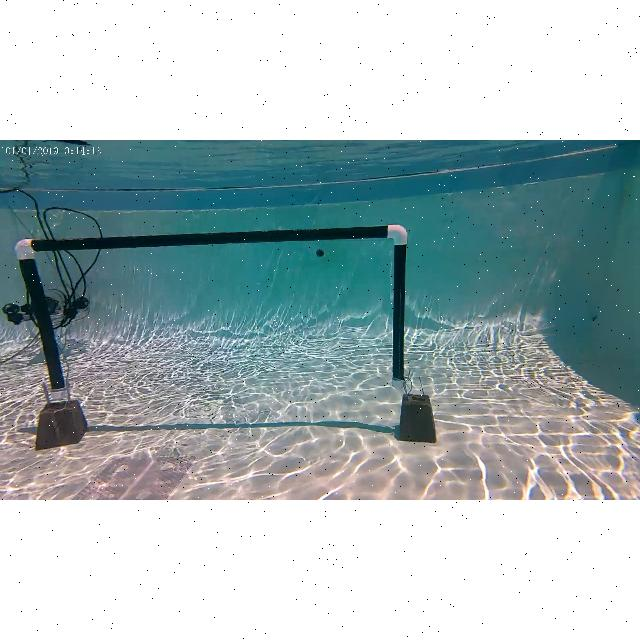prequal gate: (15, 224, 408, 400)
prequal gate leg l: (12, 234, 78, 402)
prequal gate leg r: (383, 227, 411, 393)
